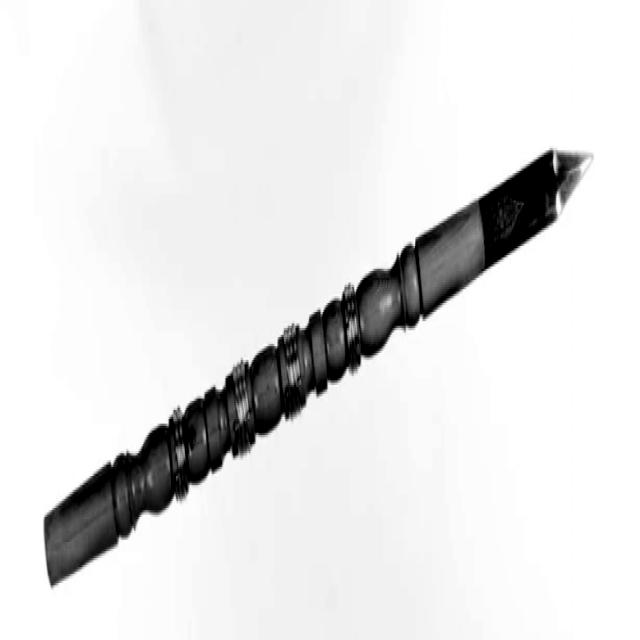spear: (22, 122, 605, 602)
